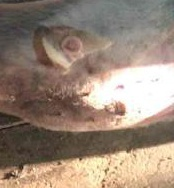text: (54, 25, 92, 66)
